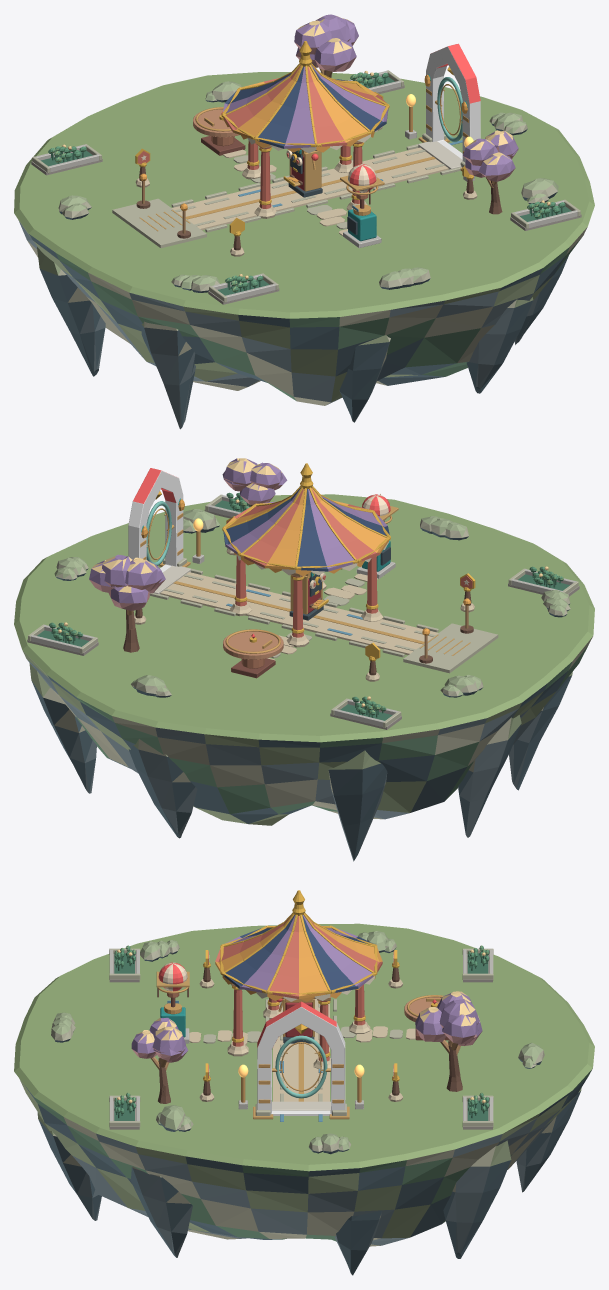
File: SM_SkyIsland_Gamble.fbx
3 views of the same model, one above another, from view 1: azimuth 30°, elevation 25°; view 2: azimuth 150°, elevation 25°; view 3: azimuth 270°, elevation 25° (orthographic).
Visible parts, largest first — view 1: SM_SkyIsland_Gamble; view 2: SM_SkyIsland_Gamble; view 3: SM_SkyIsland_Gamble.
Part boxes in pixels (left/top/right/bottom): SM_SkyIsland_Gamble: left=14, top=14, right=594, bottom=429; SM_SkyIsland_Gamble: left=14, top=458, right=594, bottom=861; SM_SkyIsland_Gamble: left=14, top=890, right=594, bottom=1275.
Bounding box in the file's own units: 2403 × 2400 × 1490.
